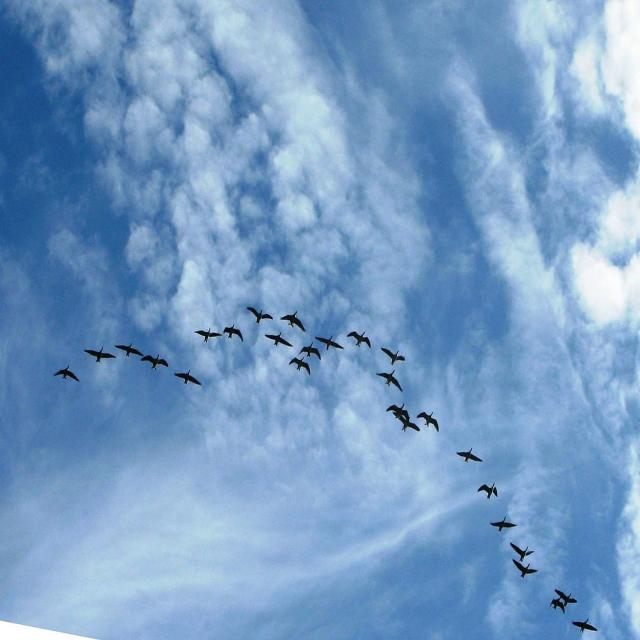bird: (384, 403, 415, 430), (374, 370, 406, 395), (316, 333, 346, 356), (487, 515, 519, 536), (140, 351, 168, 375), (244, 304, 271, 328), (380, 346, 408, 368), (279, 311, 305, 334), (174, 370, 203, 390), (512, 560, 538, 582), (86, 348, 116, 367), (263, 332, 293, 351), (348, 329, 373, 350), (416, 411, 439, 433), (476, 480, 500, 501), (289, 357, 312, 378), (457, 448, 485, 465), (116, 341, 140, 360), (510, 543, 536, 560), (552, 590, 579, 606), (53, 368, 80, 384), (394, 414, 418, 432), (222, 325, 243, 345), (548, 595, 566, 618), (299, 343, 321, 361), (194, 326, 219, 341), (574, 621, 598, 636)
